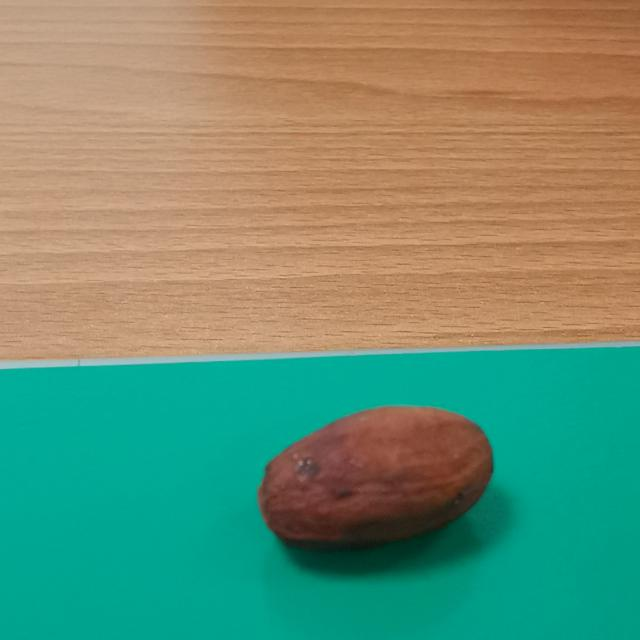Fine_cocoabeans: (188, 371, 604, 630)
